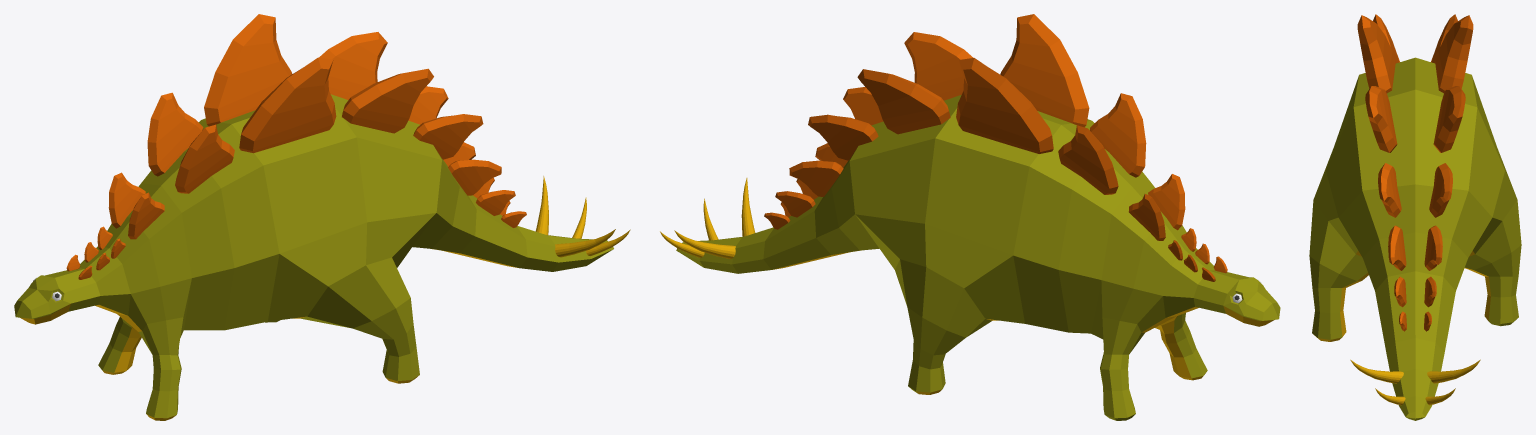
Rendered from stegosaurus_-_low_poly_dinosaur.glb.
The picture shows the model from 3 angles, left to right: view 1: azimuth 30°, elevation 25°; view 2: azimuth 150°, elevation 25°; view 3: azimuth 270°, elevation 25°; orthographic projection. The views are drawn at different scales.
Parts seen in each view (by area): view 1: Box001_Material #26_0, Box002_Material #29_0, Box009_Material #29_0, Box003_Material #29_0, Box010_Material #29_0, Box004_Material #29_0, Box011_Material #29_0, Box001_Material #28_0, Cylinder001, Box012_Material #29_0, Cylinder002; view 2: Box001_Material #26_0, Box002_Material #29_0, Box009_Material #29_0, Box003_Material #29_0, Box010_Material #29_0, Box004_Material #29_0, Box011_Material #29_0, Box001_Material #28_0, Cylinder001, Box012_Material #29_0, Cylinder002; view 3: Box001_Material #26_0, Box002_Material #29_0, Box009_Material #29_0, Box010_Material #29_0, Box011_Material #29_0, Cylinder001, Box001_Material #28_0, Box012_Material #29_0, Box003_Material #29_0, Cylinder002, Box013_Material #29_0.
Boxes of the visible parts, bbox=[...] form: Box001_Material #26_0: bbox=[14, 94, 613, 418]; Box002_Material #29_0: bbox=[204, 14, 336, 153]; Box009_Material #29_0: bbox=[319, 32, 433, 133]; Box003_Material #29_0: bbox=[147, 92, 234, 193]; Box010_Material #29_0: bbox=[408, 86, 483, 159]; Box004_Material #29_0: bbox=[108, 172, 164, 239]; Box011_Material #29_0: bbox=[443, 142, 501, 195]; Box001_Material #28_0: bbox=[20, 248, 517, 420]; Cylinder001: bbox=[535, 176, 615, 257]; Box012_Material #29_0: bbox=[473, 177, 515, 215]; Cylinder002: bbox=[572, 197, 630, 255]; Box001_Material #26_0: bbox=[676, 95, 1280, 420]; Box002_Material #29_0: bbox=[956, 14, 1089, 153]; Box009_Material #29_0: bbox=[857, 32, 973, 134]; Box003_Material #29_0: bbox=[1058, 93, 1146, 194]; Box010_Material #29_0: bbox=[808, 87, 883, 160]; Box004_Material #29_0: bbox=[1128, 174, 1185, 240]; Box011_Material #29_0: bbox=[789, 143, 847, 196]; Box001_Material #28_0: bbox=[772, 250, 1273, 394]; Cylinder001: bbox=[674, 178, 755, 259]; Box012_Material #29_0: bbox=[775, 179, 818, 217]; Cylinder002: bbox=[660, 198, 718, 257]; Box001_Material #26_0: bbox=[1309, 57, 1521, 420]; Box002_Material #29_0: bbox=[1357, 15, 1473, 93]; Box009_Material #29_0: bbox=[1365, 86, 1465, 152]; Box010_Material #29_0: bbox=[1378, 163, 1452, 217]; Box011_Material #29_0: bbox=[1388, 225, 1442, 270]; Cylinder001: bbox=[1350, 359, 1480, 383]; Box001_Material #28_0: bbox=[1313, 251, 1490, 341]; Box012_Material #29_0: bbox=[1394, 276, 1436, 307]; Box003_Material #29_0: bbox=[1373, 14, 1457, 63]; Cylinder002: bbox=[1375, 388, 1455, 405]; Box013_Material #29_0: bbox=[1399, 311, 1431, 331].
Size of the model in its own units: 1.06 by 0.5498 by 0.3611.
